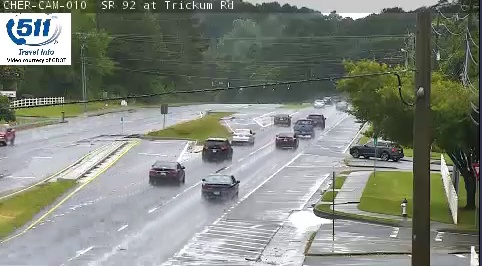car: (201, 173, 238, 199), (150, 161, 185, 183), (202, 137, 232, 160), (231, 127, 253, 144), (293, 119, 313, 137), (275, 132, 298, 147), (307, 114, 324, 129), (273, 113, 290, 126)
